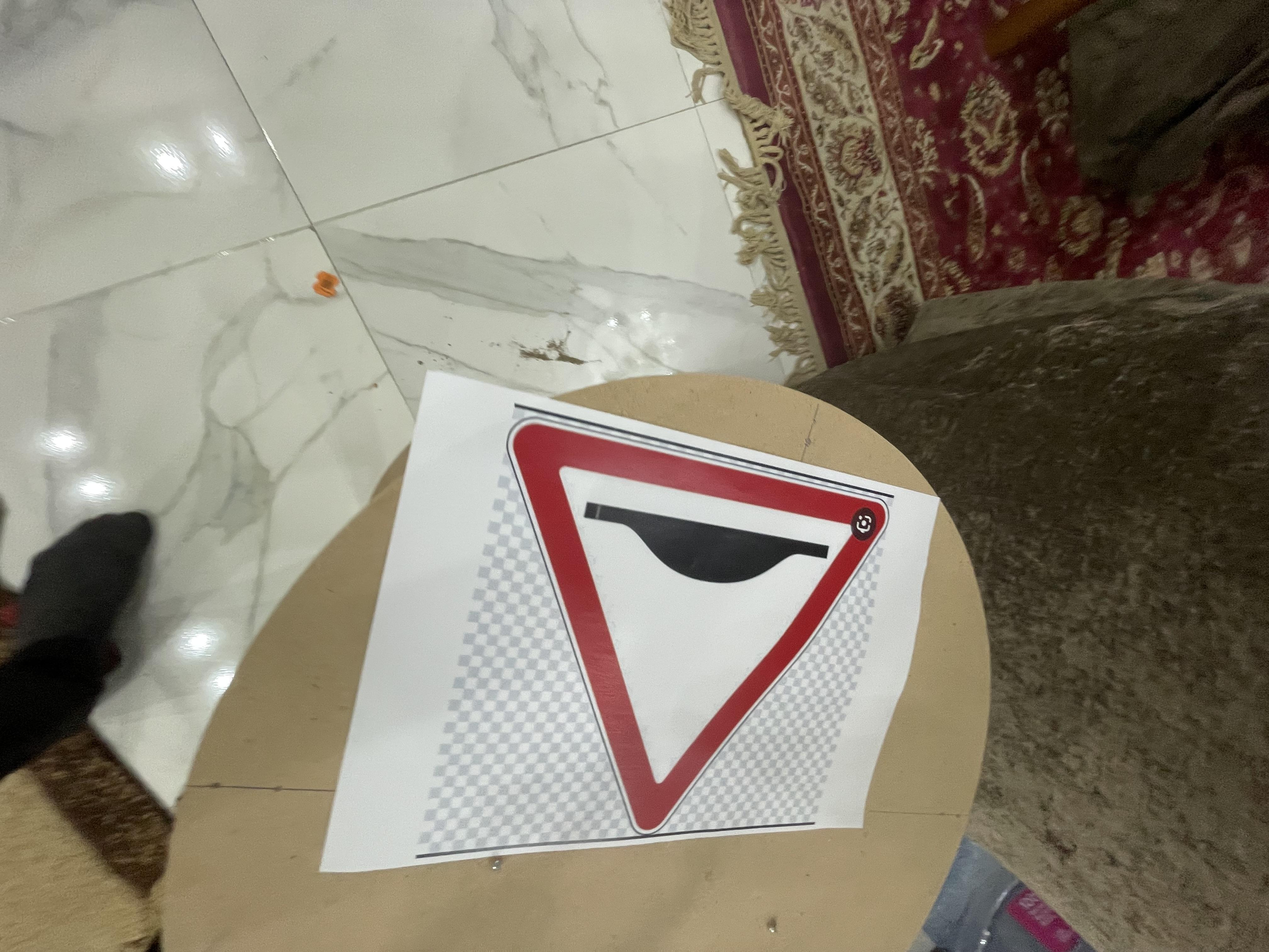Hump: (510, 422, 887, 835)
